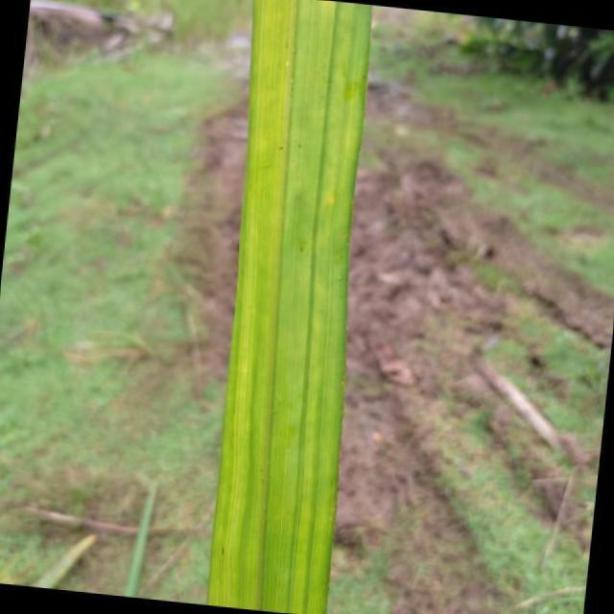nitrogen: (206, 0, 368, 614)
